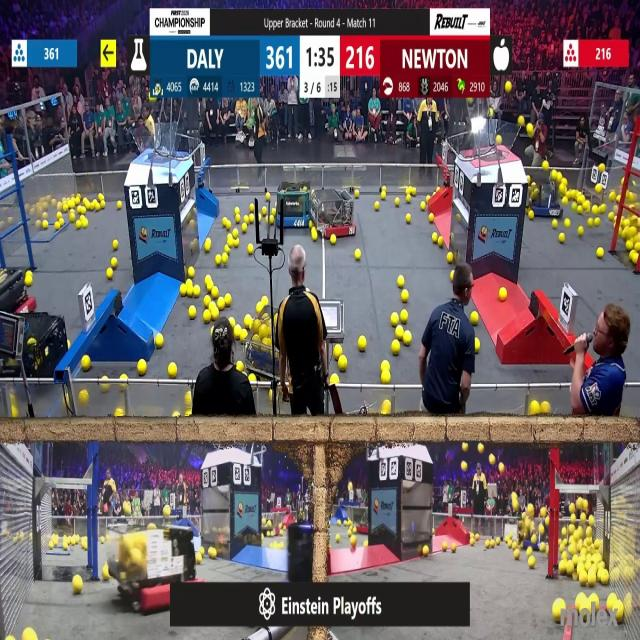ball_airborne: (575, 498, 584, 513), (513, 493, 520, 510), (526, 125, 534, 138), (122, 502, 130, 514), (146, 116, 154, 127), (504, 80, 511, 92), (516, 118, 523, 128), (541, 162, 548, 172), (528, 503, 534, 514), (539, 509, 546, 518), (498, 462, 504, 472), (490, 454, 496, 464), (596, 183, 602, 193), (479, 444, 485, 454), (538, 525, 544, 535), (461, 461, 467, 471), (568, 503, 574, 513), (608, 190, 614, 200), (496, 136, 502, 145), (462, 444, 468, 453), (489, 109, 494, 117), (600, 164, 604, 173), (522, 514, 528, 520)
ball_ground: (553, 600, 562, 621), (72, 578, 82, 595), (575, 595, 585, 611), (78, 390, 88, 405), (599, 570, 609, 584), (138, 359, 147, 374), (588, 571, 597, 586), (606, 595, 615, 610), (617, 606, 625, 622), (169, 362, 178, 376), (81, 355, 90, 369), (382, 403, 391, 417), (530, 403, 539, 417), (340, 356, 348, 371), (402, 332, 410, 347), (24, 630, 36, 640), (469, 312, 477, 326), (358, 338, 366, 352), (392, 341, 400, 355), (204, 310, 212, 324), (578, 572, 586, 586), (399, 311, 407, 324), (26, 272, 33, 286), (102, 566, 109, 580), (567, 562, 574, 576), (382, 372, 390, 384), (390, 314, 398, 326), (335, 345, 343, 357), (204, 240, 212, 252), (395, 326, 403, 338), (540, 401, 548, 413), (155, 336, 162, 349), (400, 289, 407, 302), (245, 315, 252, 328), (209, 549, 217, 560), (499, 288, 506, 300), (188, 307, 195, 319), (631, 251, 638, 263), (235, 326, 242, 338), (217, 296, 224, 308), (205, 276, 212, 288), (330, 375, 338, 385), (626, 241, 634, 251), (241, 328, 247, 341), (560, 562, 566, 575), (187, 268, 194, 279), (597, 248, 604, 259), (186, 285, 193, 296), (237, 360, 244, 371), (80, 217, 87, 228), (180, 284, 186, 296), (397, 276, 403, 288), (224, 293, 230, 305), (11, 408, 17, 420), (212, 309, 218, 321), (165, 504, 171, 516), (114, 410, 122, 419), (382, 360, 389, 370), (69, 213, 76, 223), (448, 252, 454, 263), (355, 249, 361, 260), (312, 231, 318, 242), (205, 295, 211, 306), (194, 554, 200, 565), (102, 382, 108, 393), (474, 340, 479, 353), (591, 594, 598, 603), (107, 269, 113, 279), (330, 236, 336, 246), (212, 287, 218, 297), (528, 558, 534, 568), (111, 257, 117, 267), (559, 234, 565, 244), (577, 225, 583, 235), (422, 545, 428, 555), (350, 536, 356, 546), (193, 286, 199, 296), (431, 234, 437, 244), (226, 237, 232, 247), (256, 304, 262, 314), (231, 317, 237, 327), (93, 200, 99, 210), (115, 202, 122, 210), (249, 375, 256, 383), (81, 541, 88, 549), (248, 244, 253, 255), (216, 253, 221, 264), (589, 218, 595, 227), (564, 218, 570, 227), (249, 214, 255, 223), (42, 219, 48, 228), (528, 211, 534, 220), (264, 296, 270, 305), (593, 206, 599, 215), (83, 201, 89, 210), (539, 542, 545, 551), (112, 240, 117, 250), (222, 217, 227, 227), (76, 198, 81, 208), (101, 374, 108, 381), (394, 199, 400, 207), (428, 214, 434, 222), (242, 223, 248, 231), (375, 203, 381, 211), (76, 220, 82, 228), (120, 374, 126, 382), (244, 215, 250, 223), (407, 196, 413, 204), (439, 238, 445, 246), (608, 212, 614, 220), (263, 208, 269, 216), (186, 278, 192, 286), (79, 207, 85, 215), (562, 198, 568, 206), (571, 202, 577, 210), (256, 214, 262, 222), (411, 187, 417, 195), (595, 217, 600, 226), (407, 215, 412, 224), (100, 201, 105, 210), (452, 542, 457, 551), (635, 242, 640, 251), (354, 190, 360, 197), (235, 240, 240, 248), (421, 203, 426, 211), (576, 206, 581, 214), (381, 190, 386, 198), (99, 192, 104, 200), (249, 205, 254, 213), (234, 230, 239, 238), (56, 220, 61, 228), (268, 216, 273, 224), (596, 600, 600, 610), (272, 208, 277, 216), (507, 540, 512, 548), (450, 272, 454, 281), (444, 541, 448, 550), (516, 551, 520, 560), (528, 546, 532, 555), (100, 536, 106, 542), (185, 412, 191, 418), (237, 215, 242, 222), (120, 572, 125, 579), (554, 219, 558, 227), (337, 534, 341, 542), (364, 539, 368, 547), (64, 541, 68, 549), (345, 520, 349, 528), (348, 530, 353, 536), (224, 246, 228, 253), (268, 192, 272, 199), (236, 208, 240, 215), (496, 537, 500, 544), (58, 212, 62, 219), (426, 194, 430, 201), (338, 521, 342, 527), (7, 636, 12, 640)
goal: (465, 120, 524, 160), (129, 128, 190, 160)
robot_blue: (22, 315, 72, 398), (276, 180, 314, 228), (526, 170, 564, 218)
robot_red: (113, 518, 199, 612), (244, 320, 275, 377), (319, 195, 358, 238), (354, 507, 369, 535)
